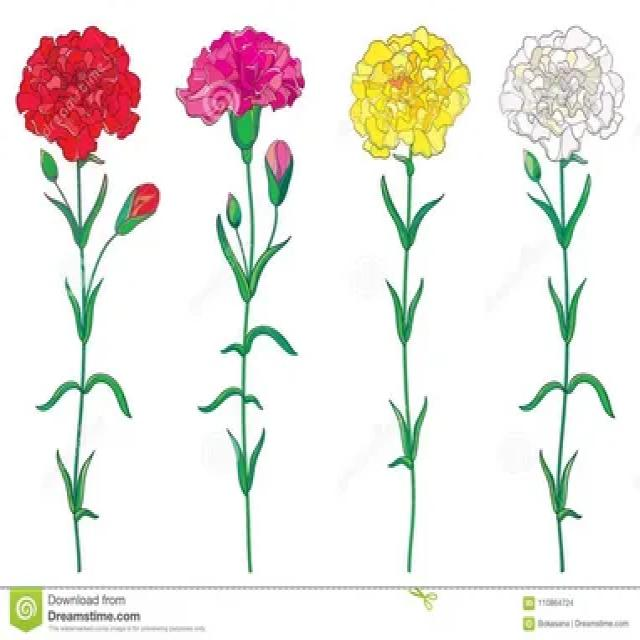carnation: (169, 11, 318, 155), (10, 18, 150, 171), (494, 29, 626, 179)
